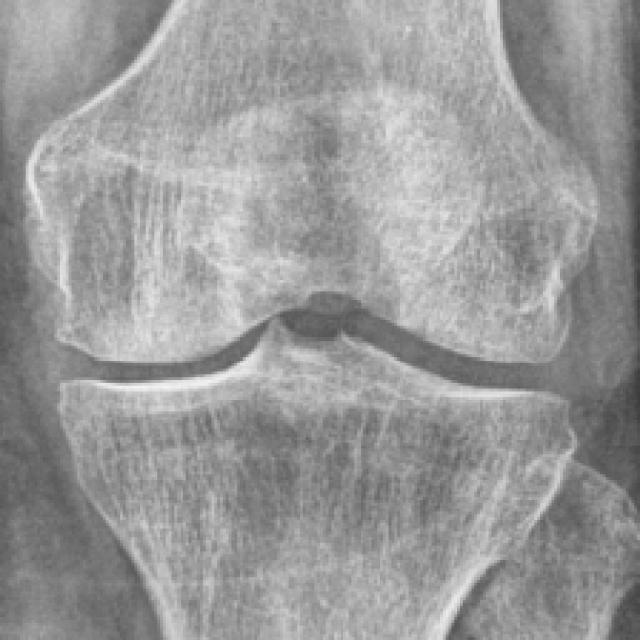femur: (29, 1, 591, 363)
tibia: (60, 323, 571, 639)
